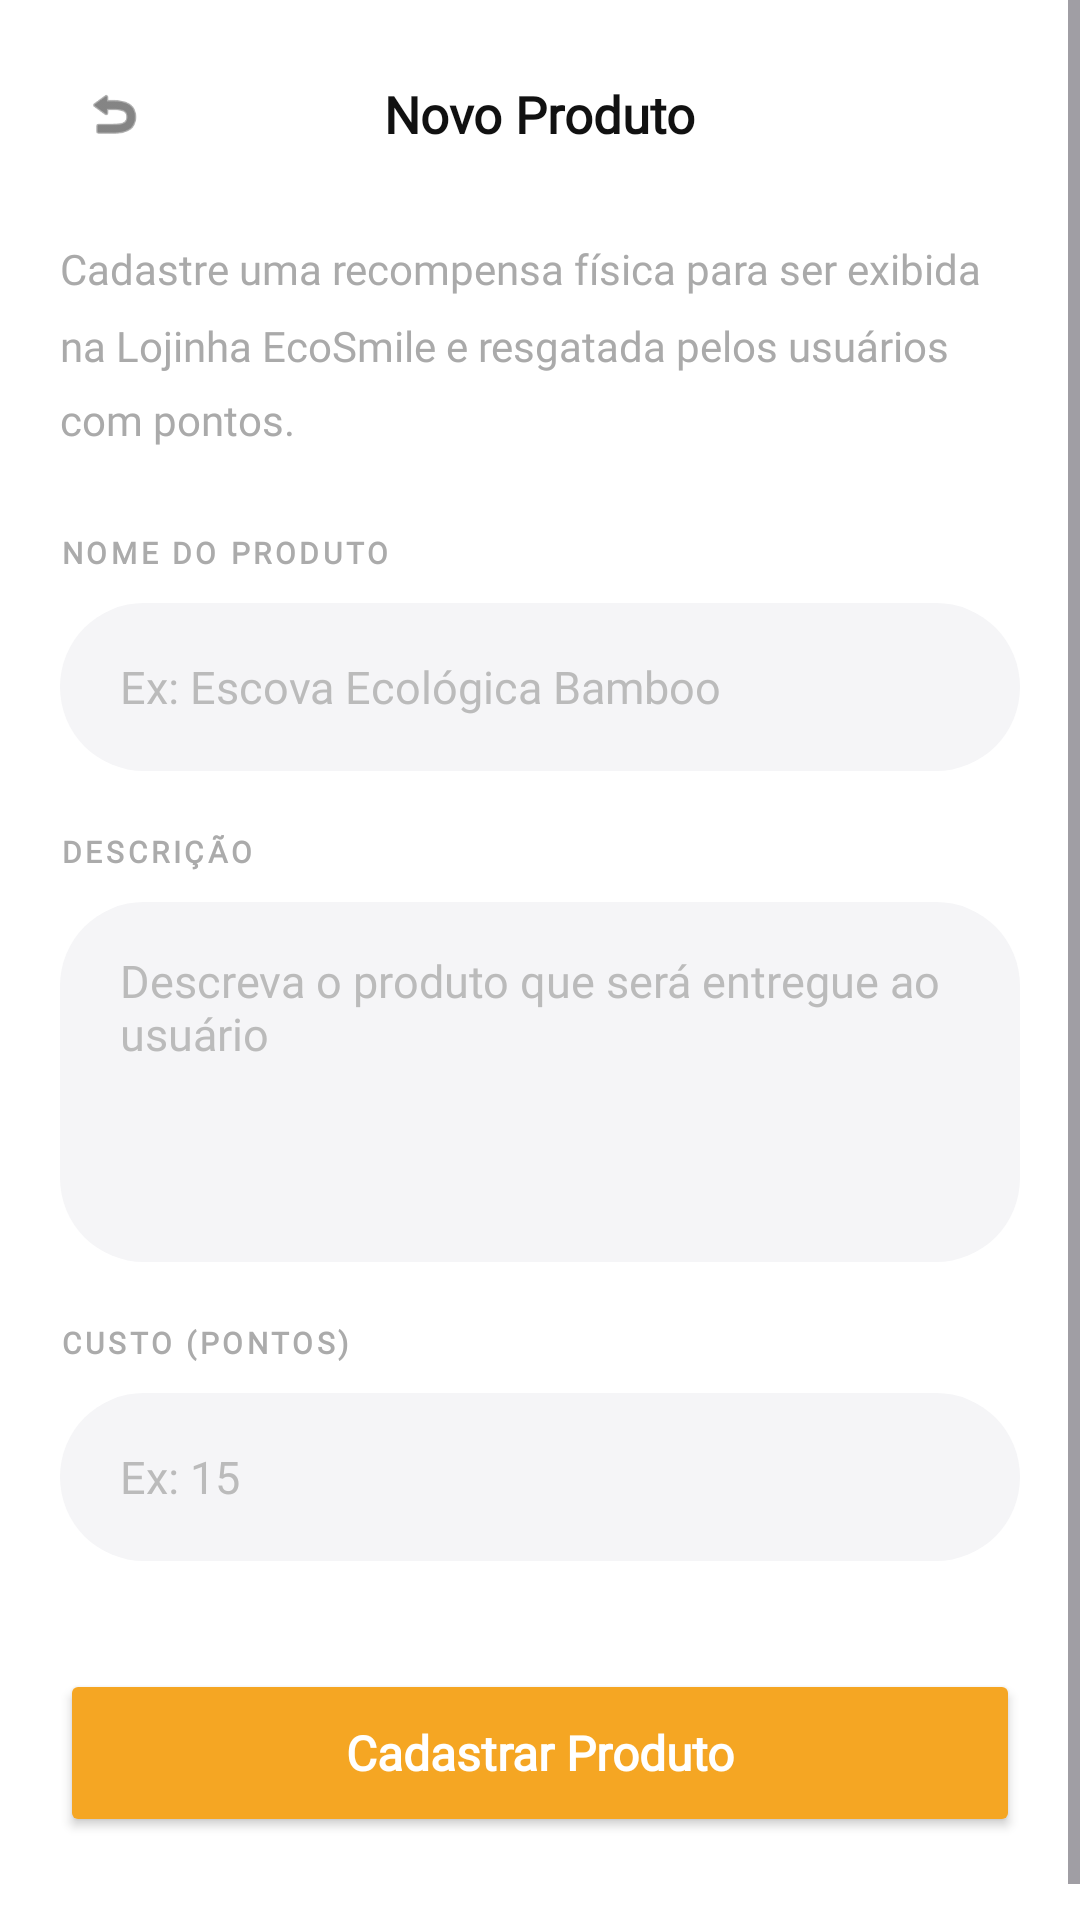

Screen size 1080x1920. Icon name, then its box in pixels as (x1, y1, x2, y2):
revert: (93, 95, 136, 134)
